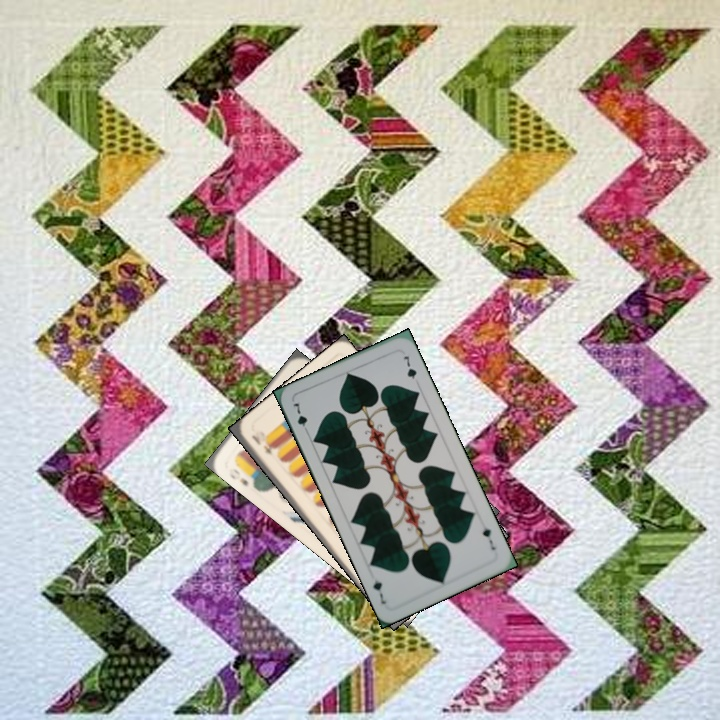E10: (247, 431, 276, 458)
EO: (225, 464, 251, 489)
G7: (289, 399, 311, 437), (478, 523, 498, 553)
